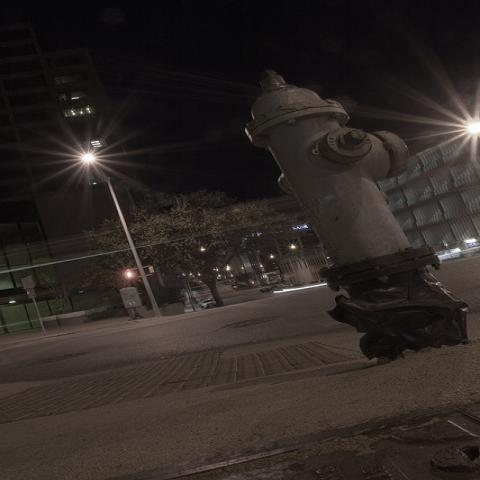car: (198, 298, 218, 310), (195, 295, 209, 302), (260, 287, 270, 292)
